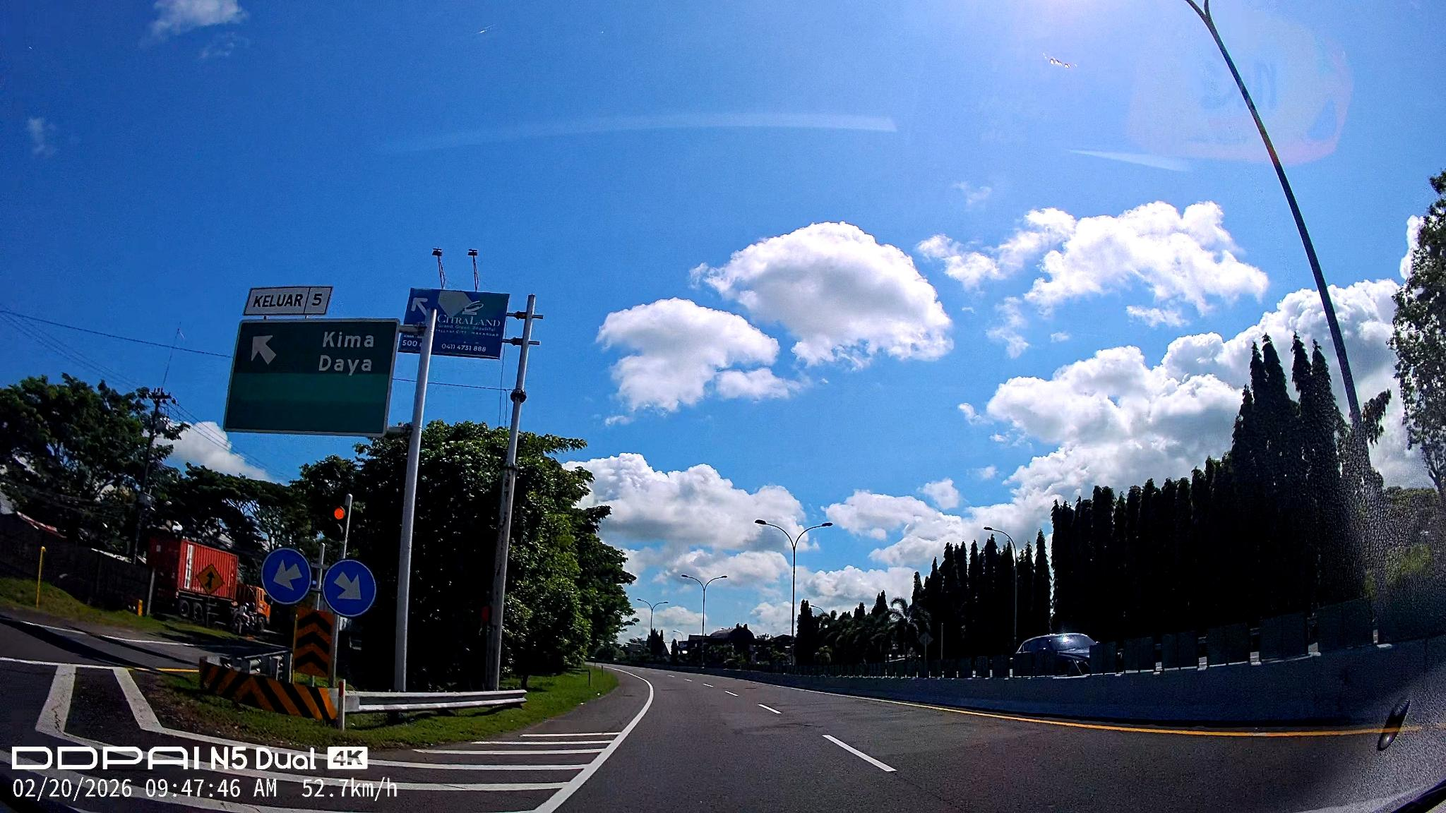rambu_teks: (222, 318, 402, 438)
